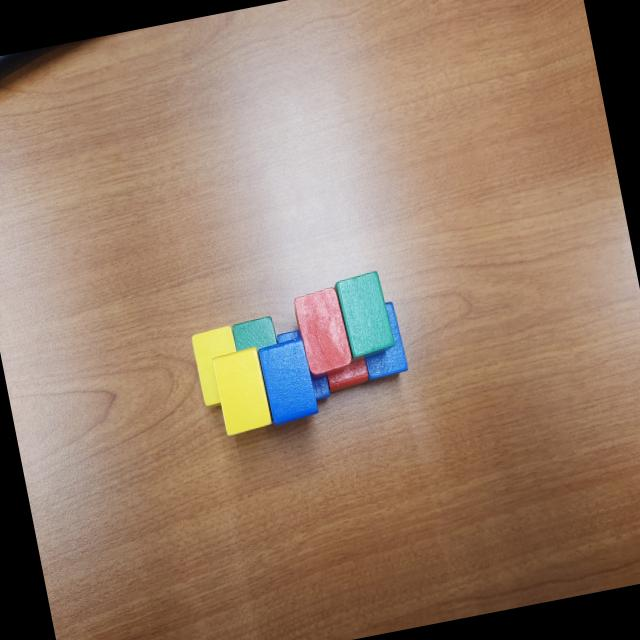blue: (257, 336, 321, 428), (354, 300, 410, 382), (276, 326, 332, 408)
green: (333, 268, 398, 364), (230, 314, 280, 352)
red: (292, 285, 356, 382), (322, 345, 372, 395)
yellow: (210, 348, 274, 436), (190, 324, 247, 407)
